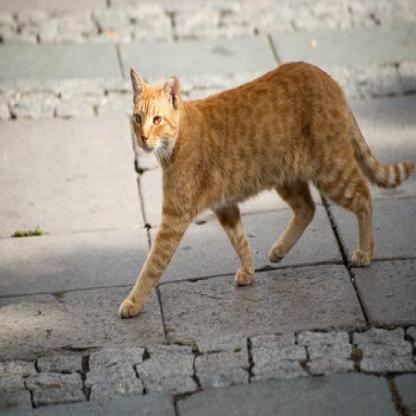cat: (114, 49, 398, 279)
